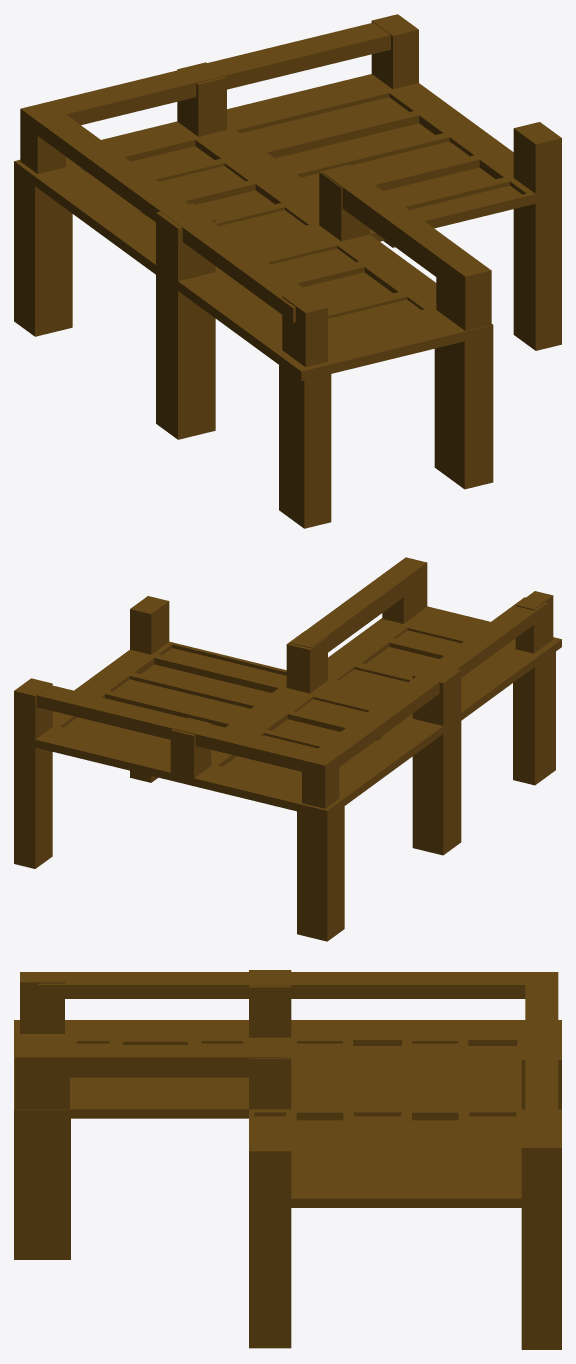
Rendered from kahoy.fbx.
3 views of the same model, one above another, from view 1: azimuth 30°, elevation 25°; view 2: azimuth 150°, elevation 25°; view 3: azimuth 270°, elevation 25° (orthographic). The views are drawn at different scales.
Visible parts, largest first — view 1: Cube; view 2: Cube; view 3: Cube.
Boxes of the visible parts, bbox=[...] form: Cube: bbox=[14, 14, 561, 528]; Cube: bbox=[14, 557, 561, 941]; Cube: bbox=[14, 970, 561, 1349].
Size of the model in its own units: 2065 by 1102 by 2678.
